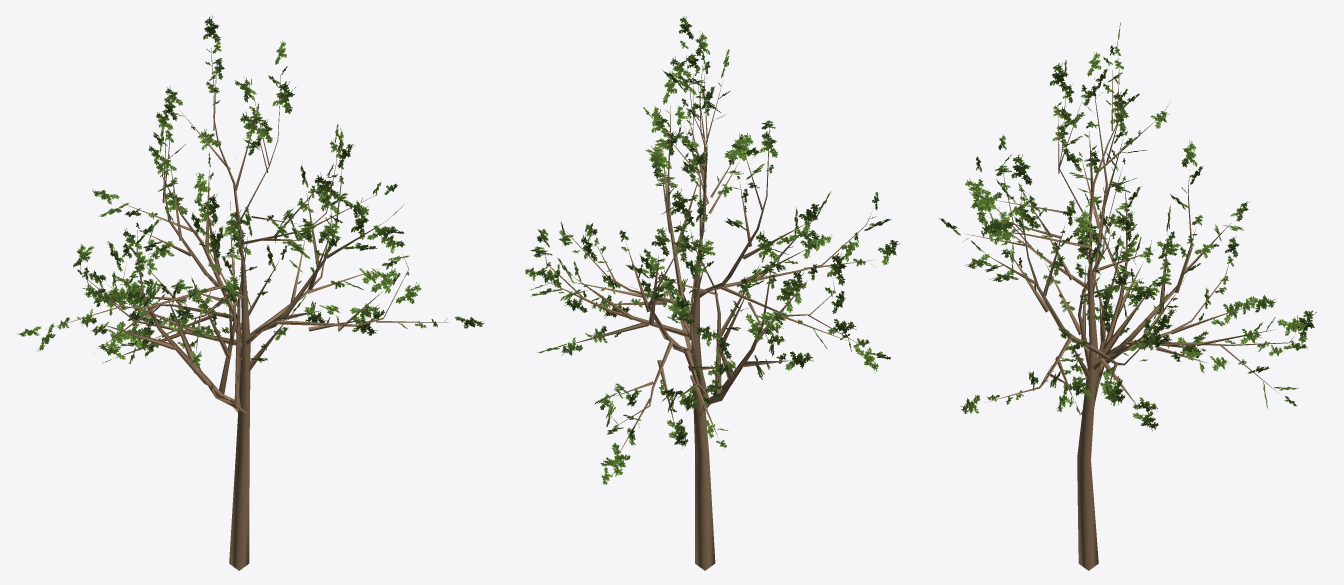
File: street-lod2.glb
The picture shows the model from 3 angles, left to right: view 1: azimuth 30°, elevation 25°; view 2: azimuth 150°, elevation 25°; view 3: azimuth 270°, elevation 25°; orthographic projection.
Visible parts, largest first — view 1: leaf cards, branches; view 2: leaf cards, branches; view 3: leaf cards, branches.
Part boxes in pixels (<box>): leaf cards: <box>18,15,484,367</box>; branches: <box>51,48,448,570</box>; leaf cards: <box>525,16,900,484</box>; branches: <box>542,55,876,570</box>; leaf cards: <box>939,22,1316,430</box>; branches: <box>967,51,1295,570</box>.
Bounding box in the file's own units: 6.11 × 8.09 × 5.32.
2 materials, 1 textured.
